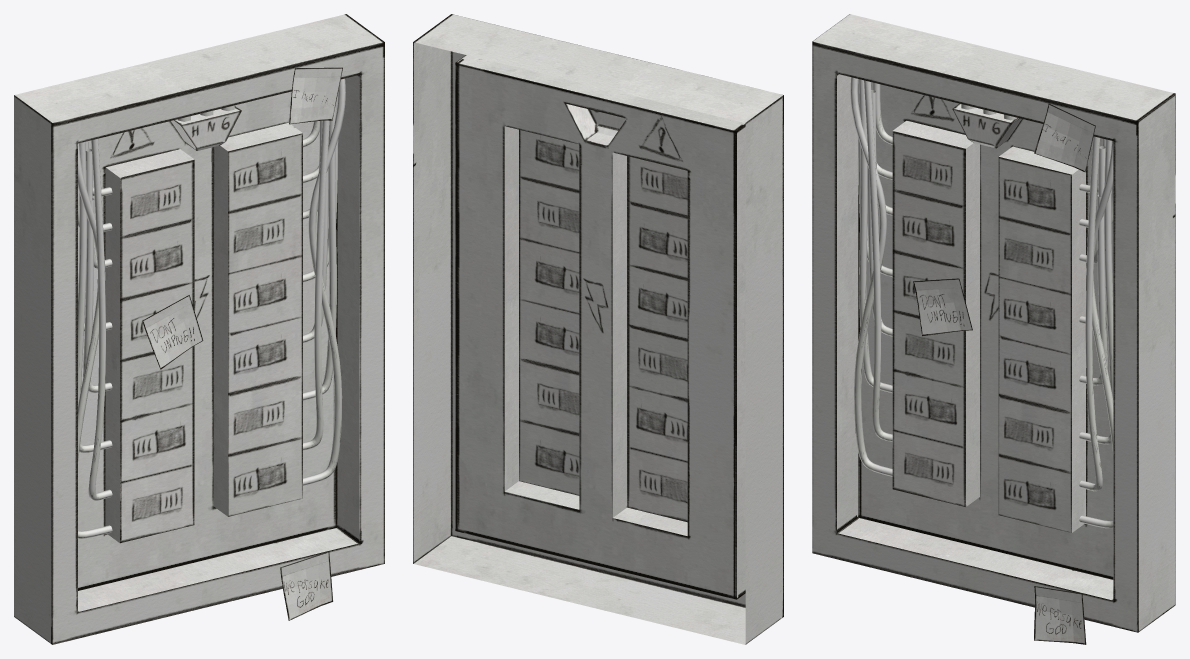
File: ElectricalPanel.fbx
3 renders of one model, left to right at view 1: azimuth 30°, elevation 25°; view 2: azimuth 150°, elevation 25°; view 3: azimuth 330°, elevation 25°, orthographic.
Parts seen in each view (by area): view 1: Cube.001; view 2: Cube.001; view 3: Cube.001.
Boxes of the visible parts, x1,y1,x2,y2 form: Cube.001: [14, 14, 384, 644]; Cube.001: [413, 14, 783, 644]; Cube.001: [812, 14, 1175, 644].
Bounding box in the file's own units: 100 × 158 × 22.69.
